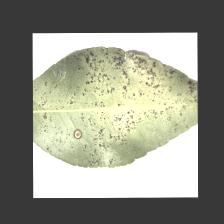canker: (40, 53, 196, 140)
